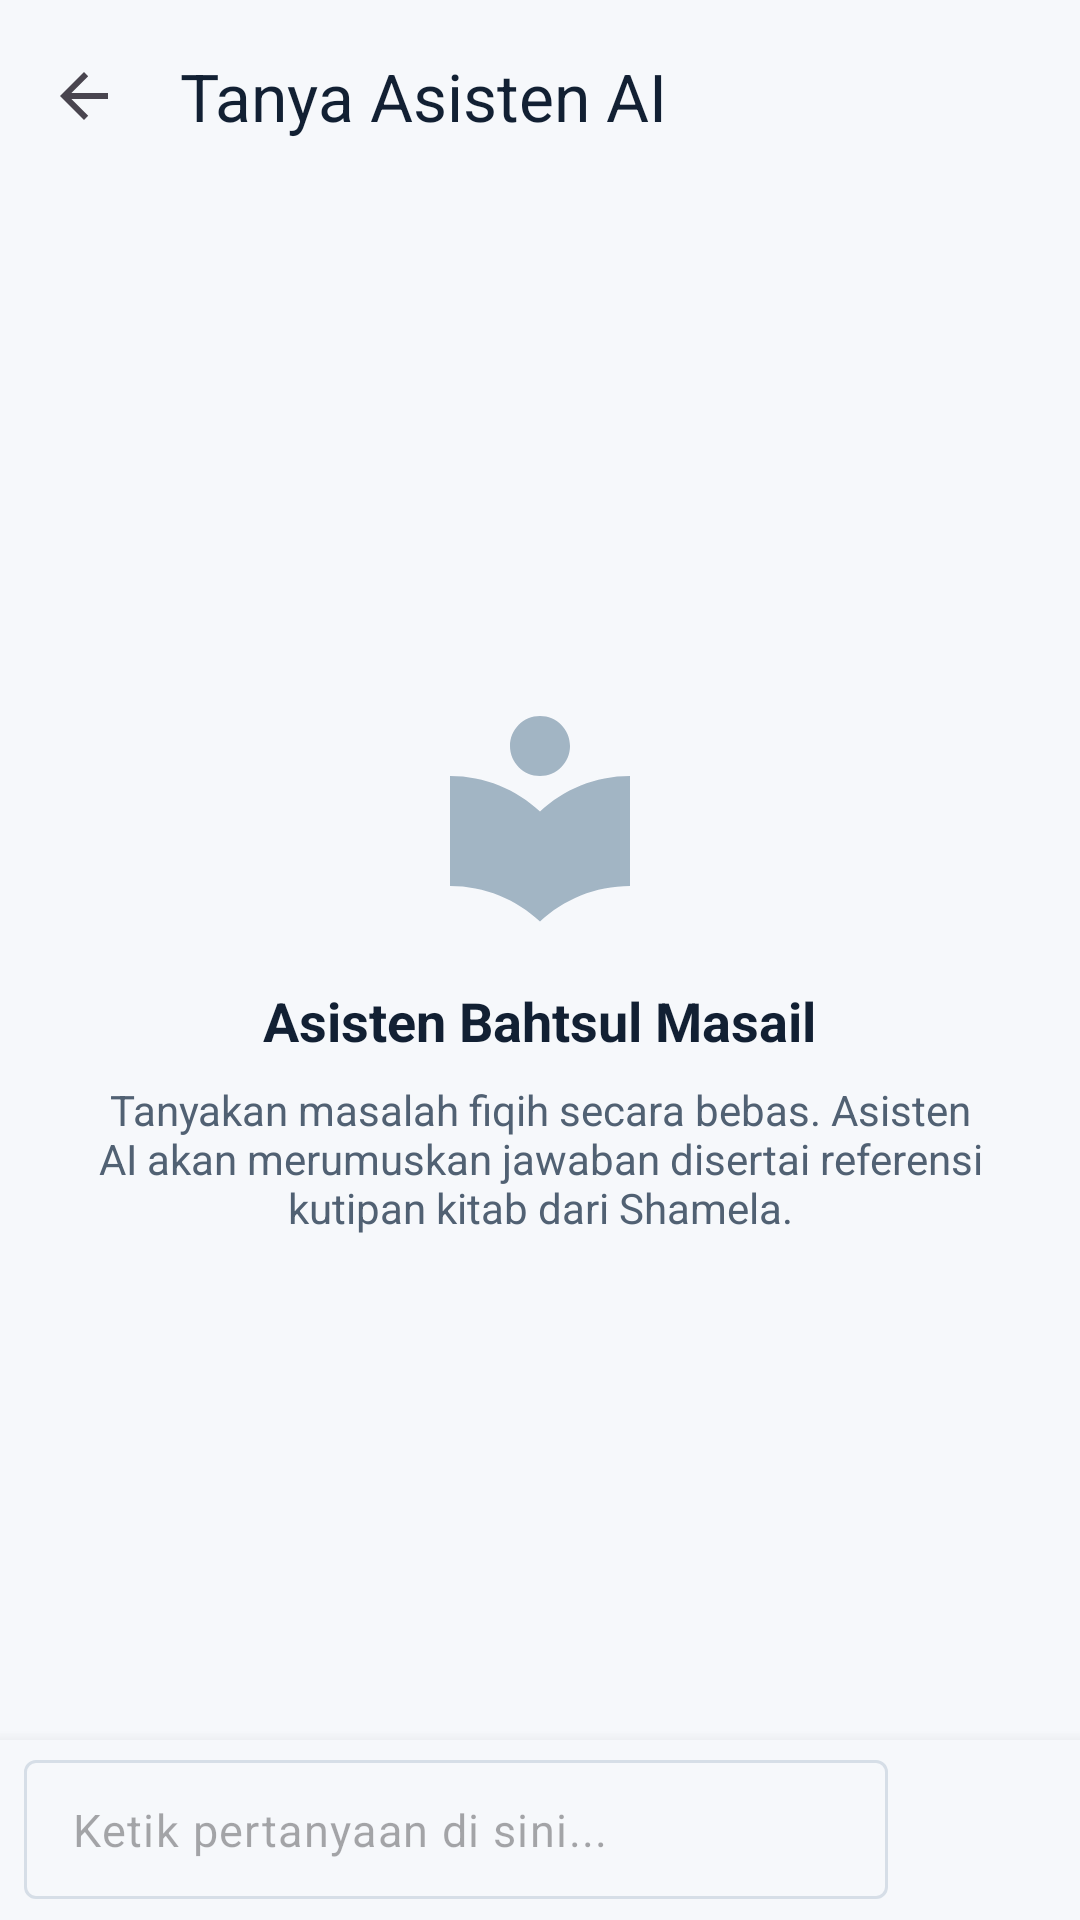

Where to tap for icons on this 1080*1920 app screen, as point (x, y):
hero book: point (540, 818)
